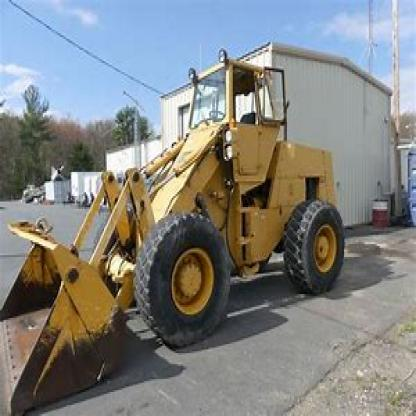bull_dozer/loader/grader: (1, 50, 352, 412)
